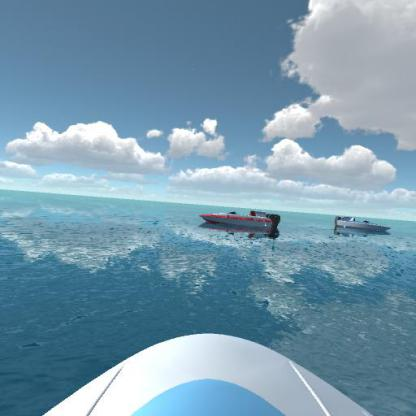usv1: (331, 209, 392, 235)
usv3: (197, 202, 288, 237)
